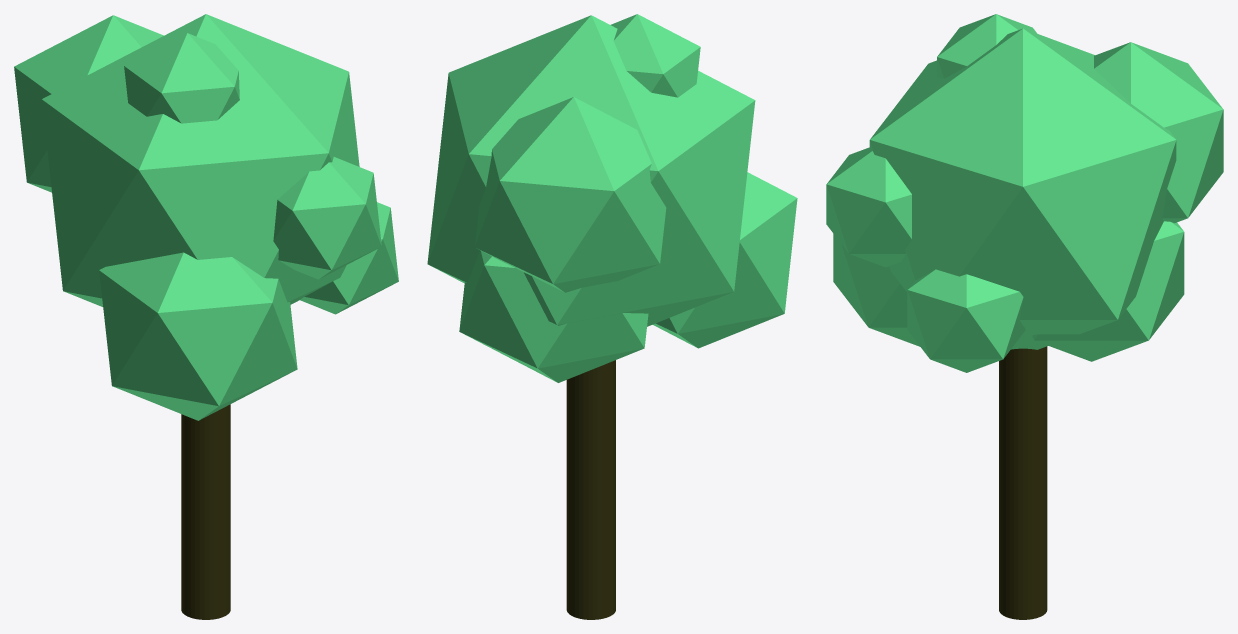
File: boom.fbx
The picture shows the model from 3 angles, left to right: view 1: azimuth 30°, elevation 25°; view 2: azimuth 150°, elevation 25°; view 3: azimuth 270°, elevation 25°; orthographic projection. The views are drawn at different scales.
Visible parts, largest first — view 1: boom; view 2: boom; view 3: boom.
Boxes of the visible parts, box(x1,y1,x2,y2) form: boom: box(14, 14, 398, 619); boom: box(427, 14, 797, 619); boom: box(826, 14, 1223, 619).
Bounding box in the file's own units: 187 × 356 × 220.
